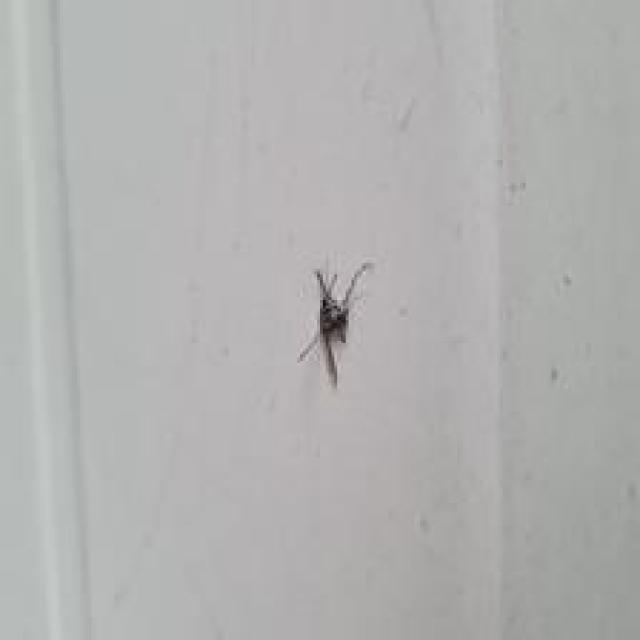Aedes albopictus: (296, 260, 373, 389)
